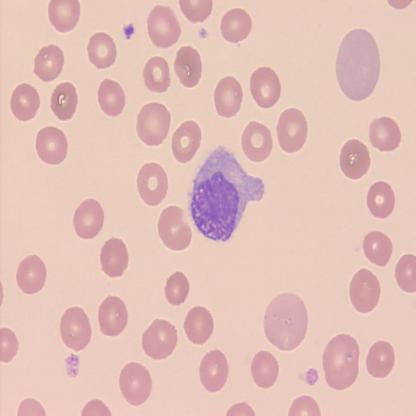Myelocyte: (191, 147, 265, 241)
